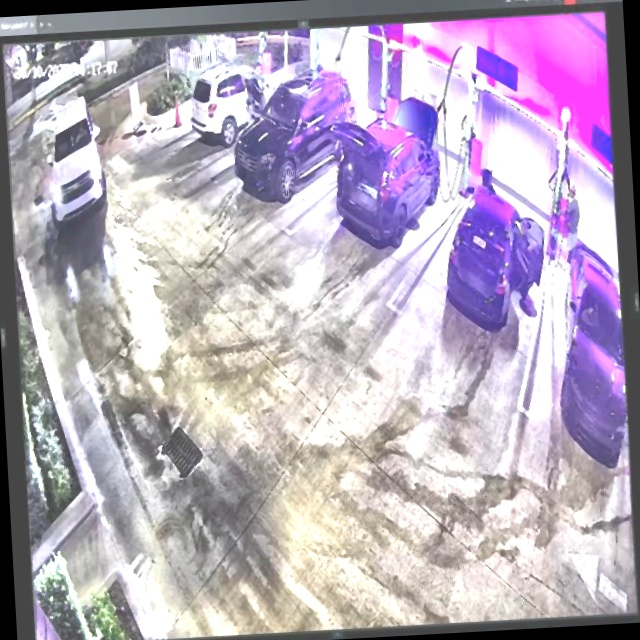Car: (234, 64, 361, 197), (333, 94, 445, 240), (438, 182, 545, 327), (187, 66, 288, 150)
